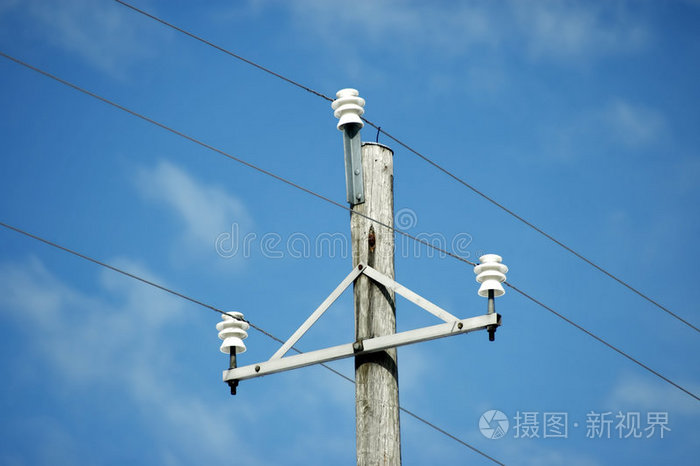insulator: (216, 314, 252, 351), (326, 93, 369, 119), (475, 258, 510, 283)
